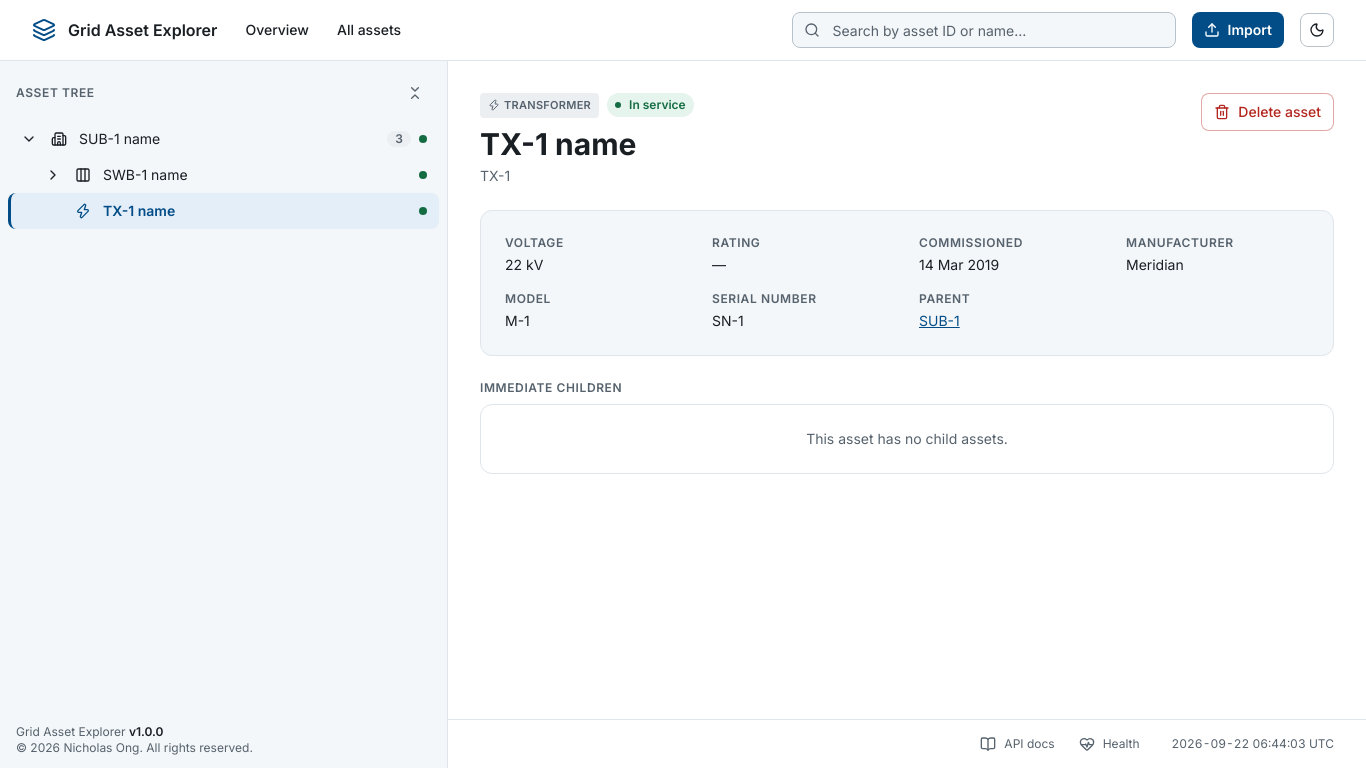
Scenario: AssetDetailsPanel › deletes a leaf after confirmation and goes to its parent
Click the button "Delete asset" at (1268, 112), box x1=1201 y1=93 x2=1334 y2=131
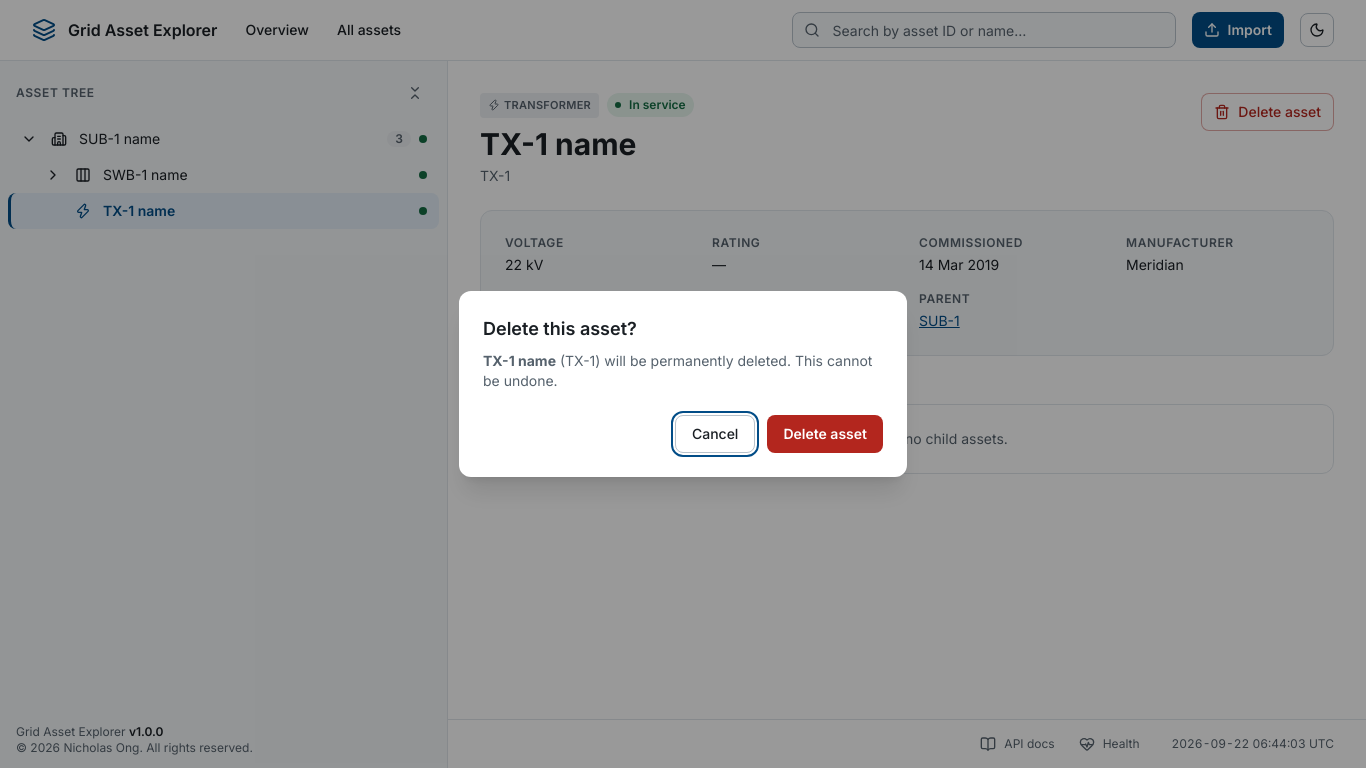
Check: the dialog shows "TX-1 name", box x1=483 y1=352 x2=556 y2=369
Click the button "Delete asset" at (825, 434), box x1=767 y1=415 x2=883 y2=453
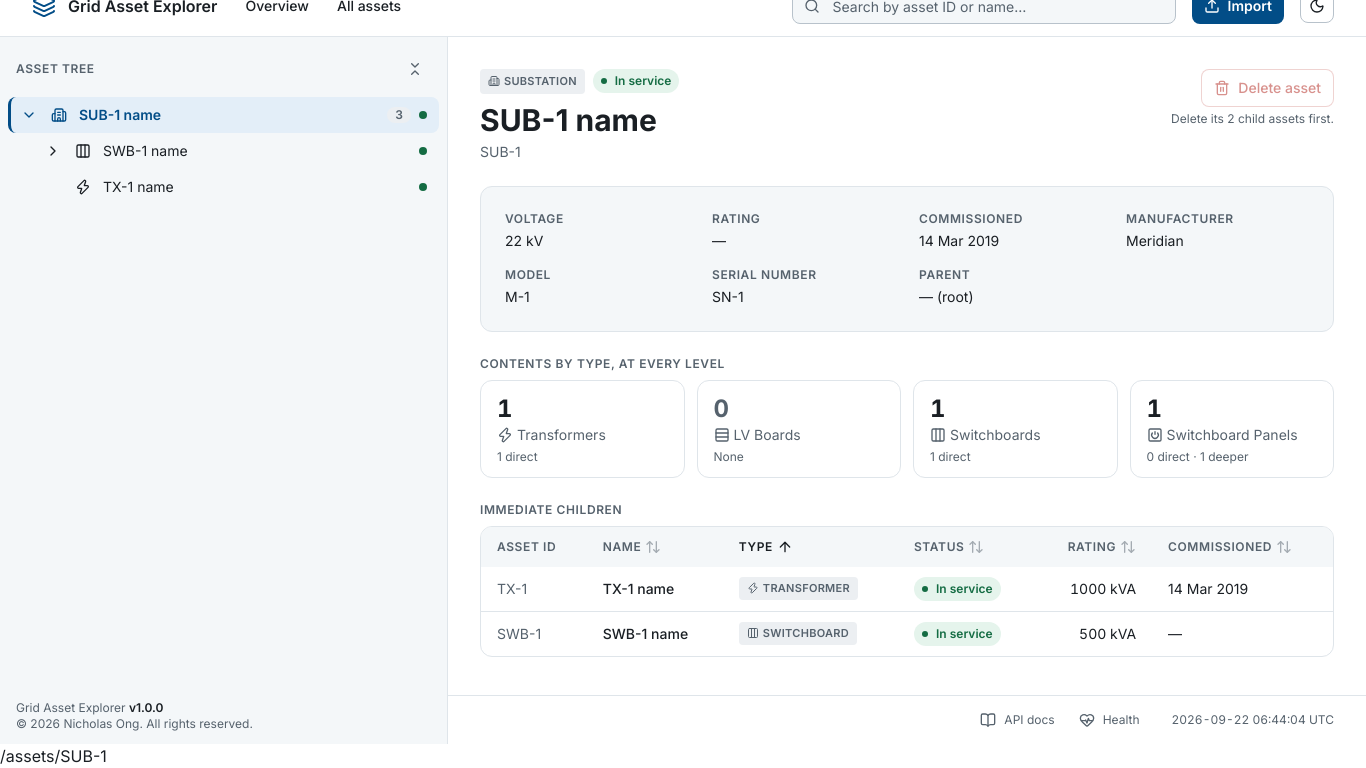
Check: the text with test id "location" reads "/assets/SUB-1", box x1=0 y1=746 x2=107 y2=766
